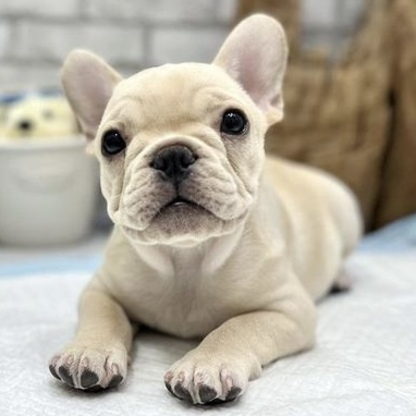bulldog: (49, 11, 367, 416)
